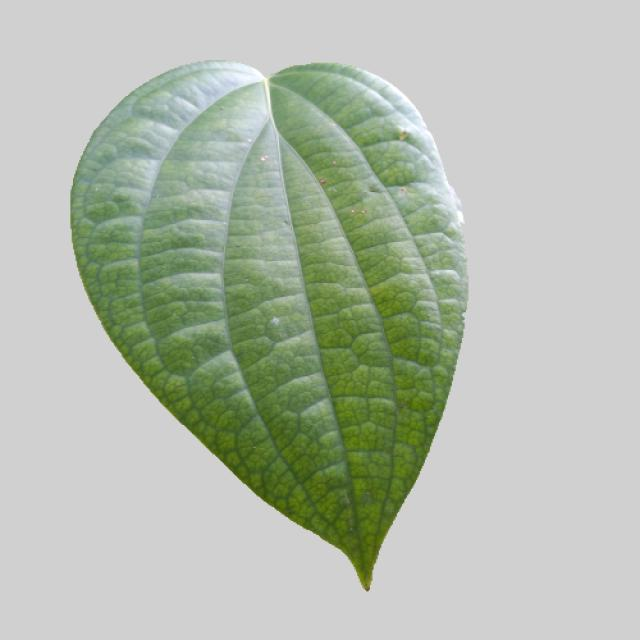healthy: (69, 62, 472, 597)
